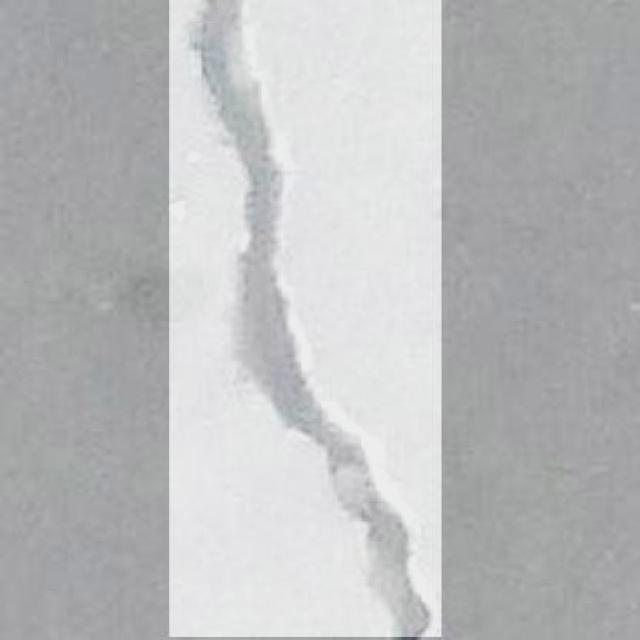SurfaceCrack: (148, 10, 420, 640)
